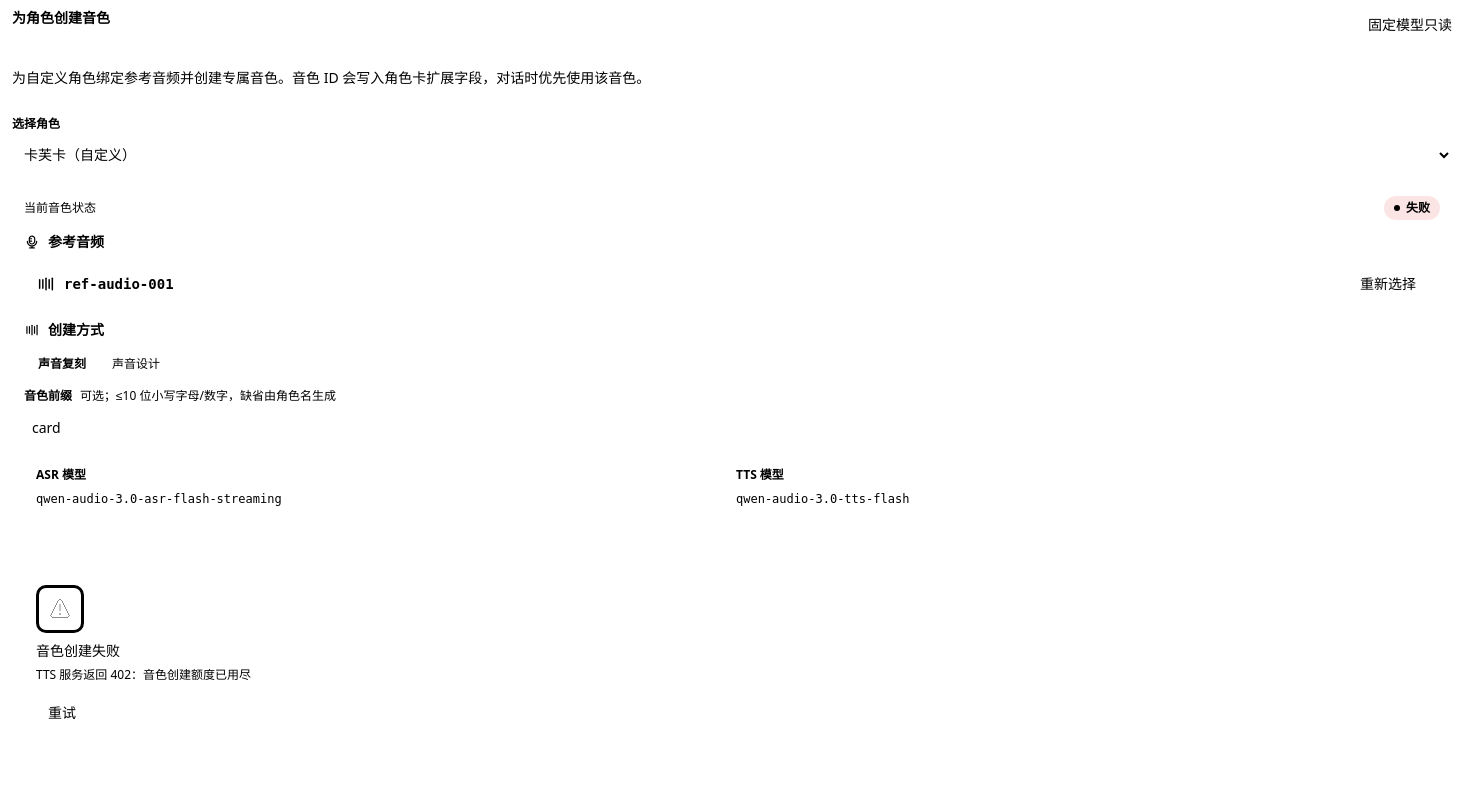
Test: CharacterVoiceSection › 创建失败时显示失败原因，重试后重新创建
The image size is (1464, 810).
Expected: the text with test id "voice-last-error" reads "TTS 服务返回 402：音色创建额度已用尽", [36,666,251,683]
Expected: the field with test id "prefix-input" holds "card", [24,410,1440,444]
Click the button with test id "retry-create-btn" at (62, 713), box [36,697,88,729]
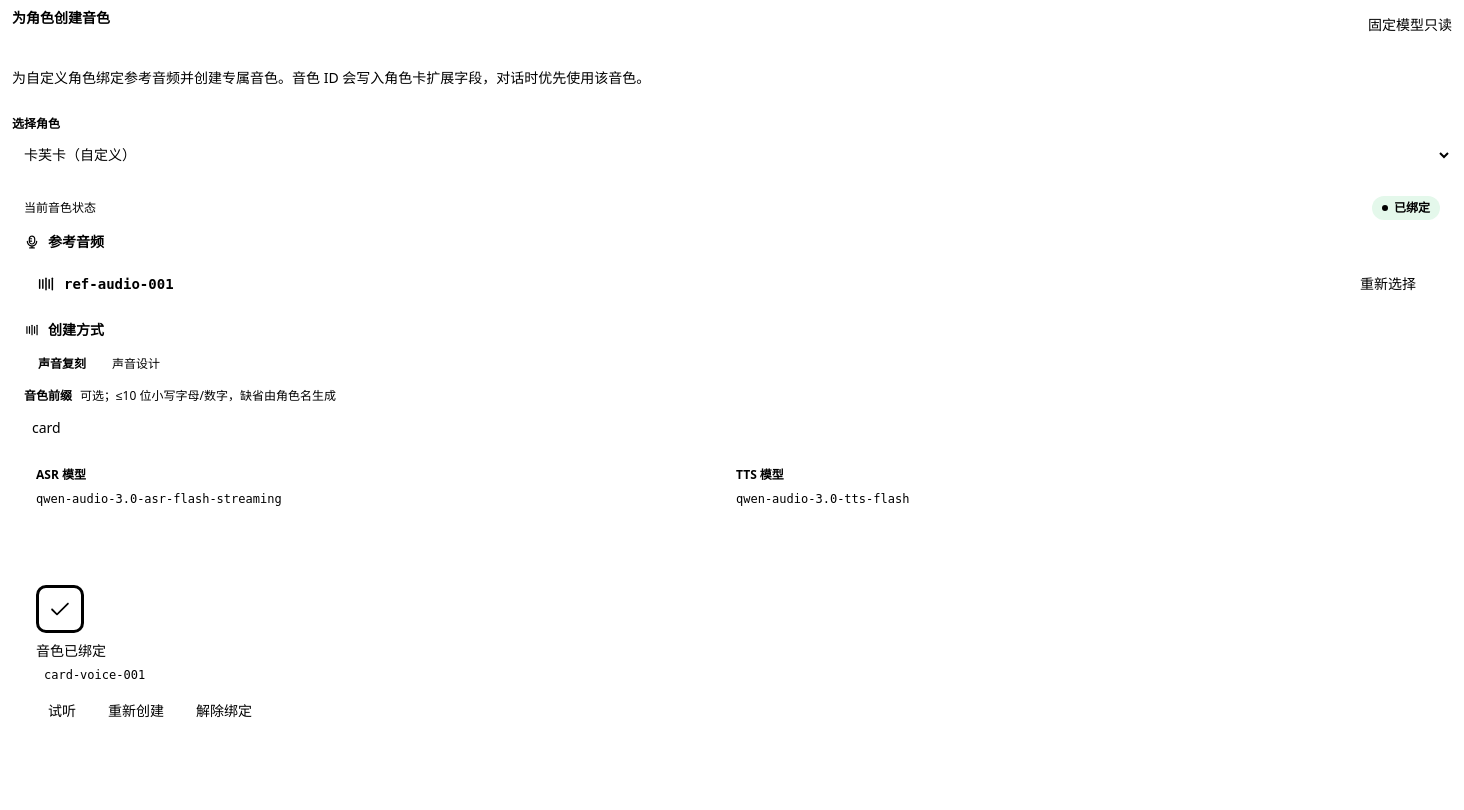
Now the message "音色已绑定 card-voice-001 试听 重新创建 解除绑定" is shown, box [36,585,264,727]
